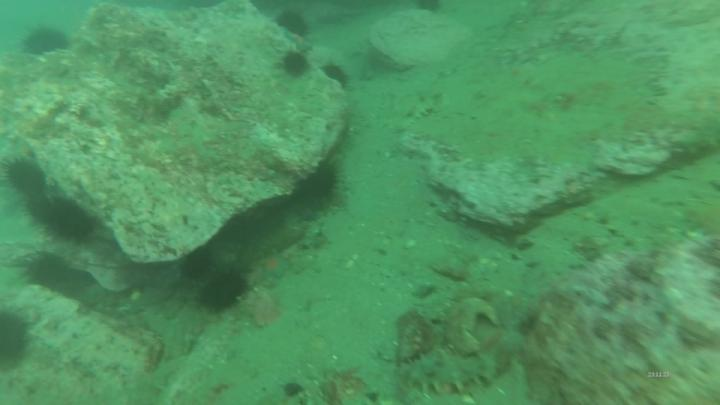echinus: (19, 249, 94, 300), (191, 267, 257, 320), (38, 194, 101, 245), (297, 156, 349, 213), (1, 307, 39, 372), (1, 153, 51, 202), (17, 24, 74, 60), (276, 45, 314, 81), (274, 9, 312, 42), (322, 57, 355, 91)
holothurian: (397, 346, 509, 400)
